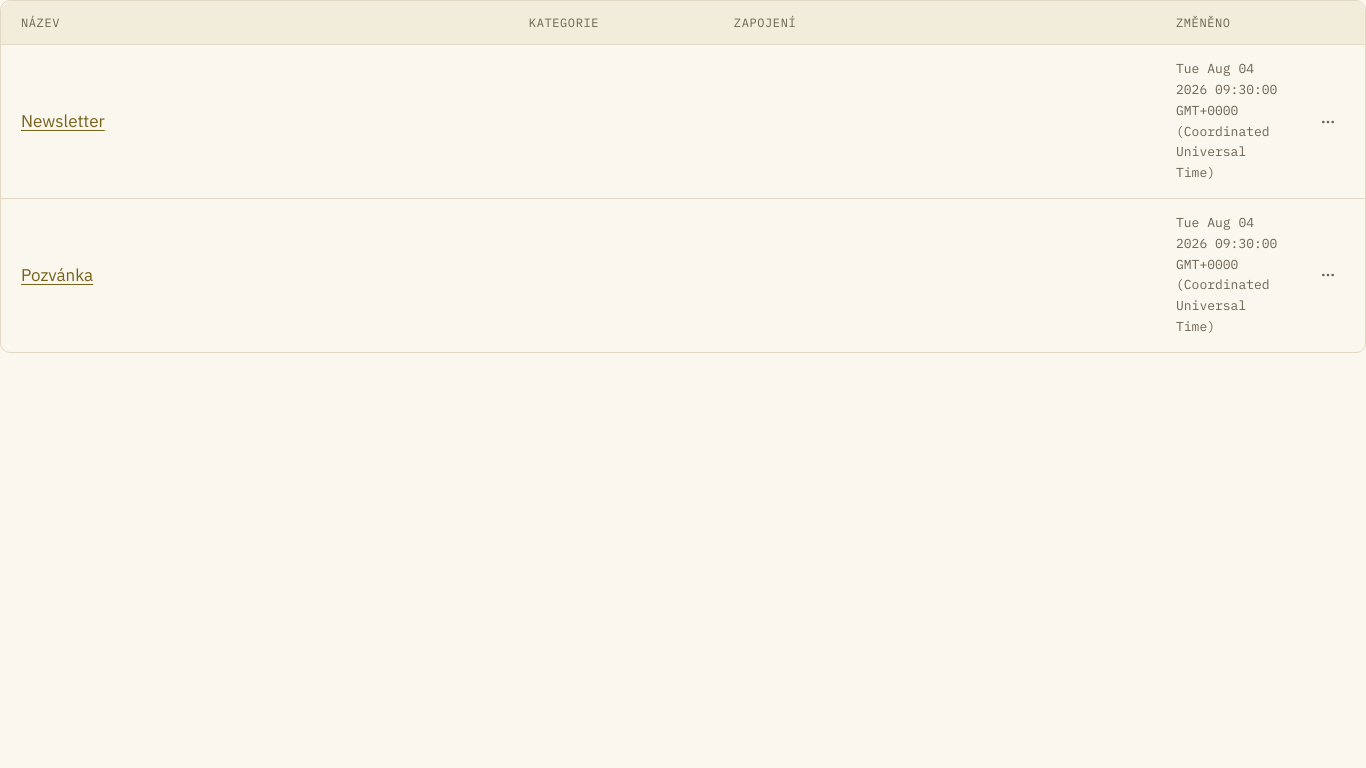
Test case: knihovna šablon › potvrzení zavolá akci a nabídne vrácení zpět
Click the button named "Další akce se šablonou".
click(1328, 122)  # box [1311, 105, 1345, 139]
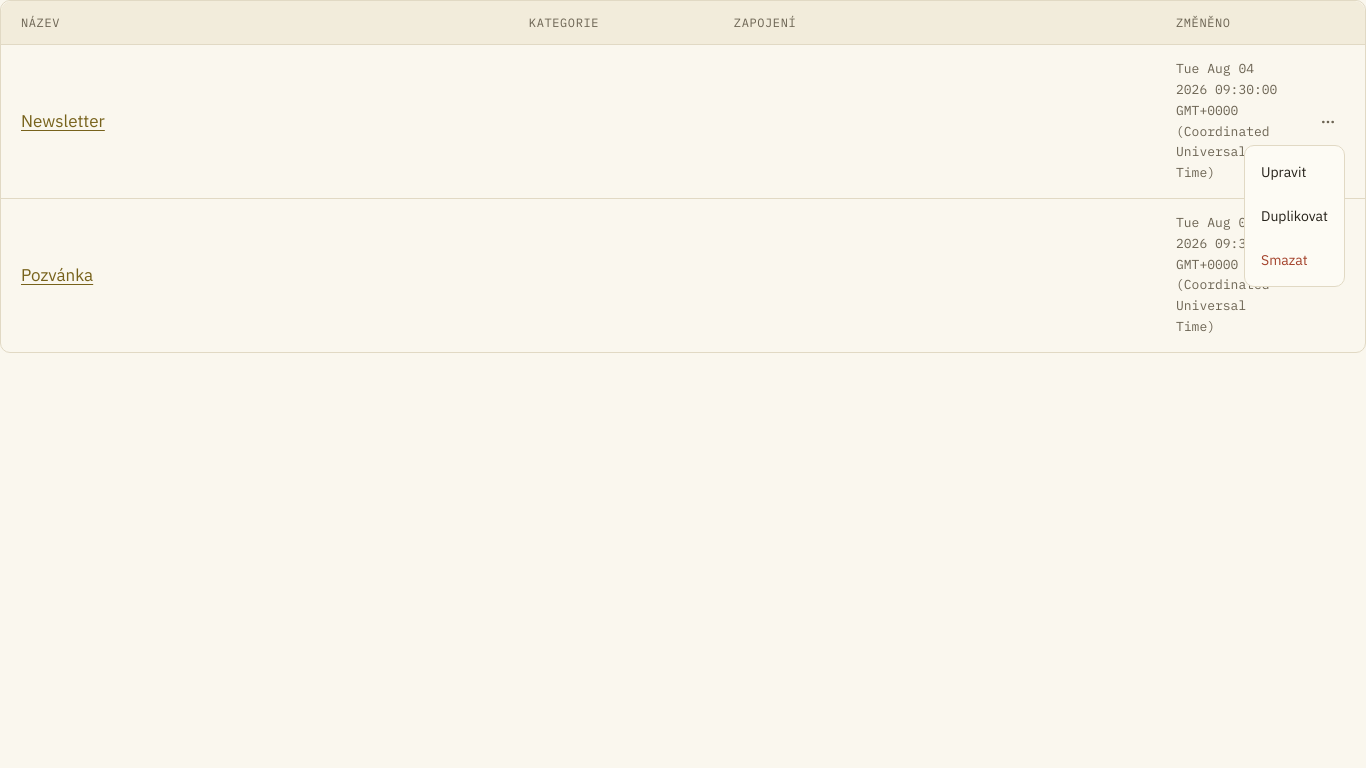
Click the menu item "Smazat".
click(1284, 260)  # box [1261, 251, 1308, 269]
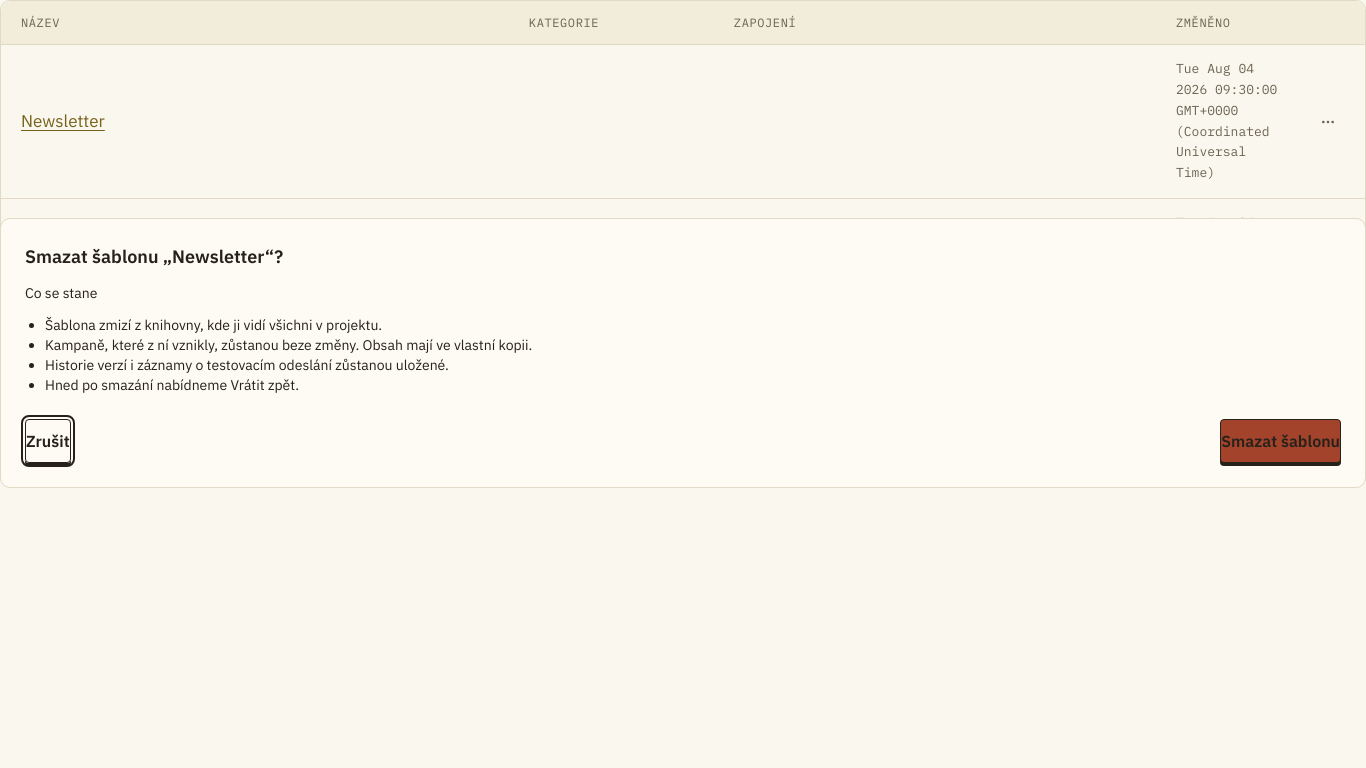
Click the button "Smazat šablonu".
click(1281, 441)  # box [1220, 419, 1341, 463]
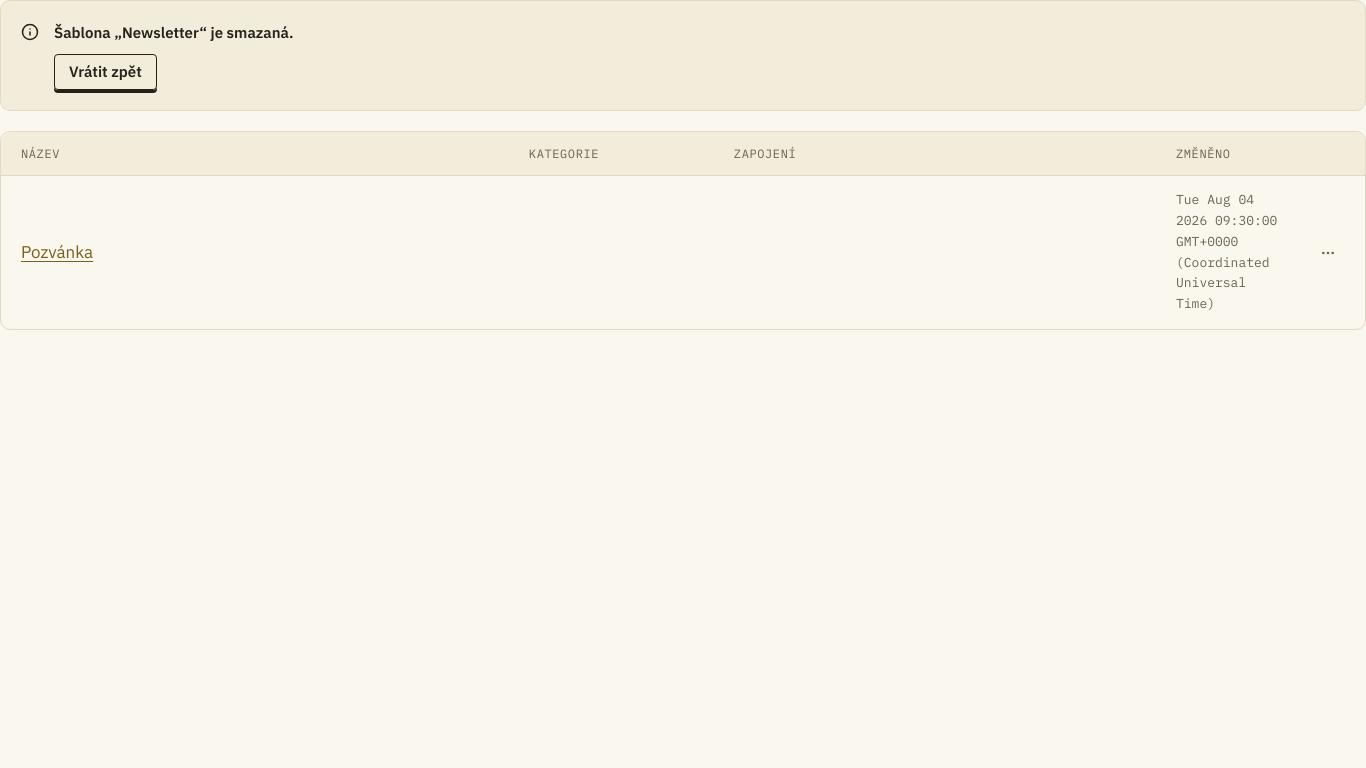
Check: the link "Pozvánka" is shown, box [21, 241, 93, 263]
Check: the button "Vrátit zpět" is shown, box [54, 54, 157, 90]
Check: the text "Šablona „Newsletter“ je smazaná." is shown, box [54, 21, 294, 45]
